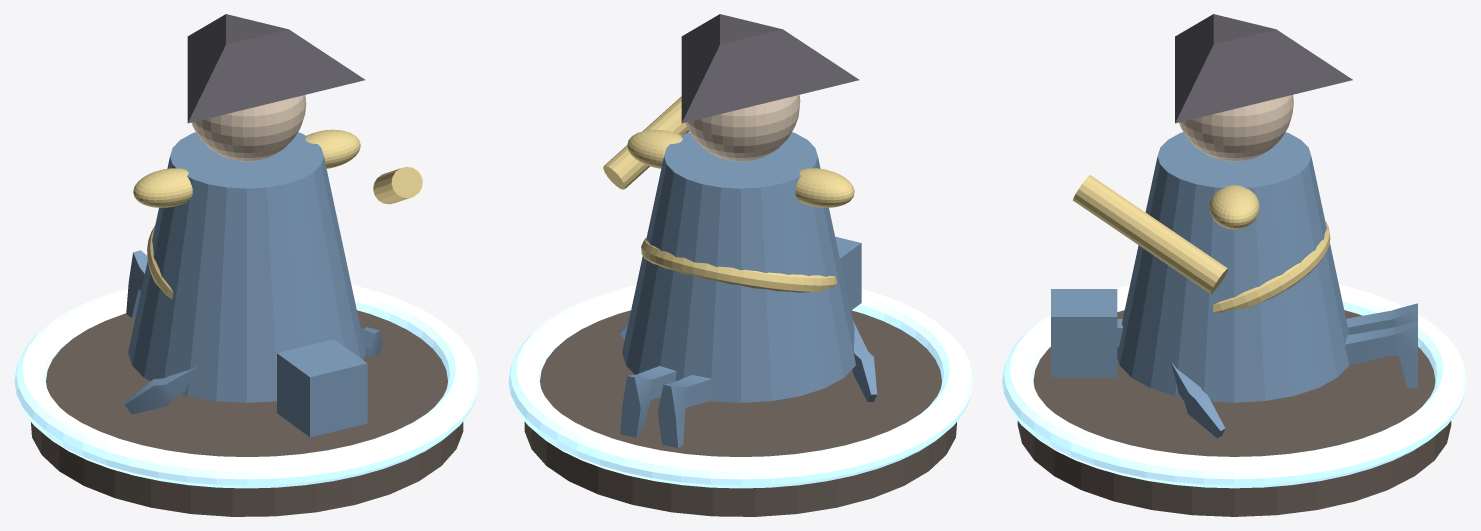
The model's file is unit_morel.glb.
3 views of the same model, side by side, from view 1: azimuth 30°, elevation 25°; view 2: azimuth 150°, elevation 25°; view 3: azimuth 270°, elevation 25° (orthographic).
Visible parts, largest first — view 1: Cone, Cylinder, Torus, Cone.001, Proxy, Sphere.002, Sphere, Cylinder.001, Sphere.001, Torus.001; view 2: Cone, Cylinder, Torus, Cone.001, Proxy, Sphere.002, Torus.001, Sphere, Cylinder.001, Sphere.001; view 3: Cone, Cylinder, Torus, Cone.001, Proxy, Cylinder.001, Sphere.002, Torus.001, Sphere.001.
Boxes of the visible parts, x1,y1,x2,y2 form: Cone: [128, 132, 365, 402]; Cylinder: [31, 310, 463, 516]; Torus: [14, 285, 479, 488]; Cone.001: [187, 14, 365, 123]; Proxy: [124, 250, 382, 437]; Sphere.002: [191, 95, 306, 161]; Sphere: [133, 168, 192, 207]; Cylinder.001: [373, 166, 422, 204]; Sphere.001: [305, 129, 360, 168]; Torus.001: [147, 225, 173, 299]; Cone: [622, 132, 855, 402]; Cylinder: [524, 310, 956, 516]; Torus: [508, 285, 973, 488]; Cone.001: [681, 14, 859, 123]; Proxy: [618, 236, 877, 448]; Sphere.002: [686, 95, 800, 161]; Torus.001: [641, 238, 836, 292]; Sphere: [795, 168, 854, 207]; Cylinder.001: [603, 96, 689, 189]; Sphere.001: [627, 129, 682, 168]; Cone: [1117, 132, 1349, 402]; Cylinder: [1017, 310, 1451, 516]; Torus: [1002, 285, 1466, 488]; Cone.001: [1175, 14, 1352, 123]; Proxy: [1051, 289, 1417, 438]; Cylinder.001: [1073, 175, 1228, 293]; Sphere.002: [1179, 95, 1293, 161]; Torus.001: [1212, 221, 1330, 312]; Sphere.001: [1209, 185, 1259, 229].
Size of the model in its own units: 1.33 by 1.25 by 1.33.
